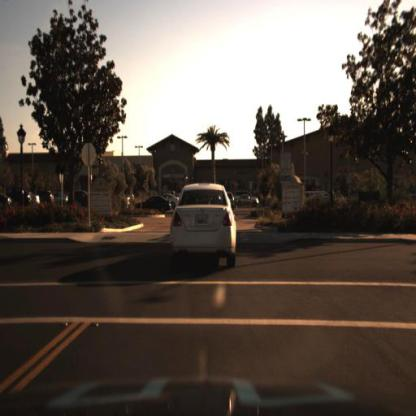car: (170, 182, 239, 270), (136, 194, 172, 215), (65, 187, 92, 208), (235, 192, 258, 209), (232, 191, 257, 205)
